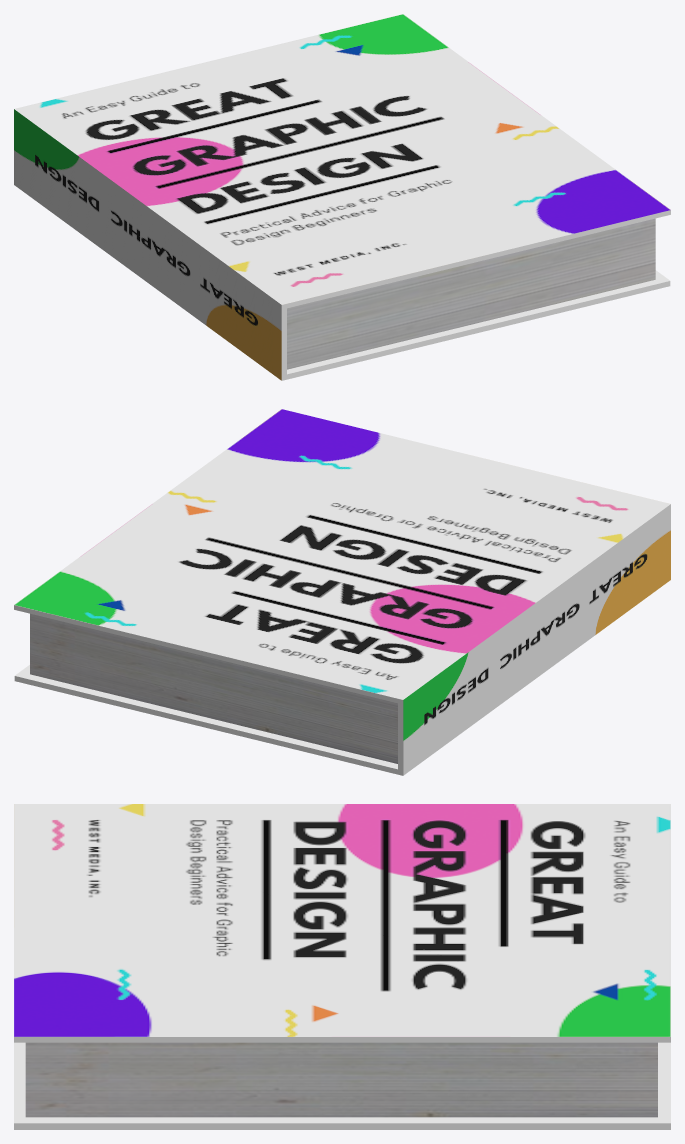
Rendered from Book 4.fbx.
3 renders of one model, top to bottom at view 1: azimuth 30°, elevation 25°; view 2: azimuth 150°, elevation 25°; view 3: azimuth 270°, elevation 25°, orthographic. The views are drawn at different scales.
Visible parts, largest first — view 1: book 4; view 2: book 4; view 3: book 4.
Boxes of the visible parts, x1,y1,x2,y2 form: book 4: (14,14,670,380); book 4: (14,409,670,775); book 4: (14,804,670,1129).
Size of the model in its own units: 5.91 by 1.1 by 7.04.
1 material, 1 textured.
